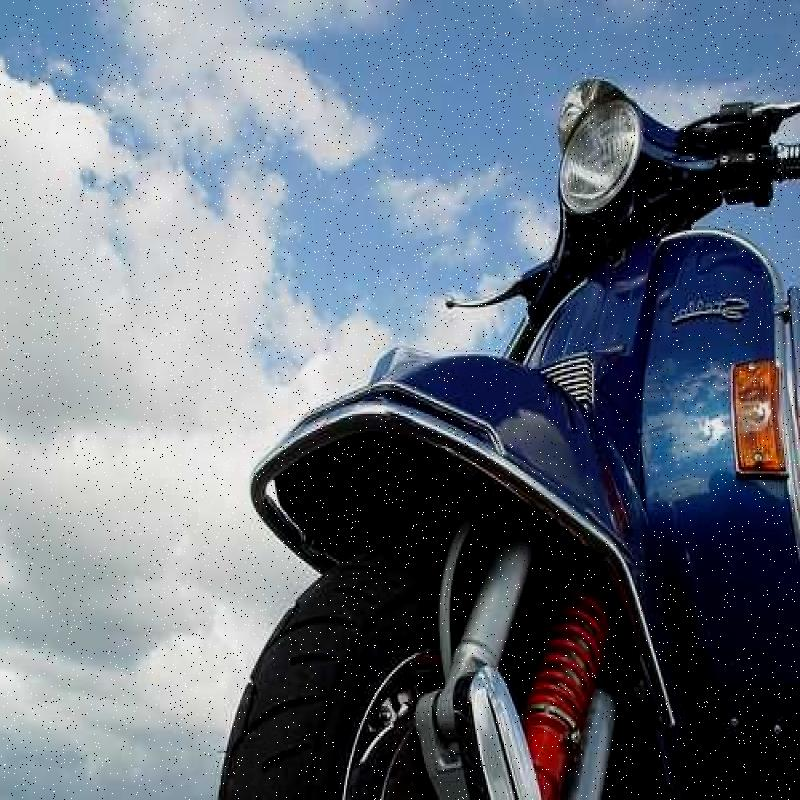bike: (225, 5, 786, 800)
